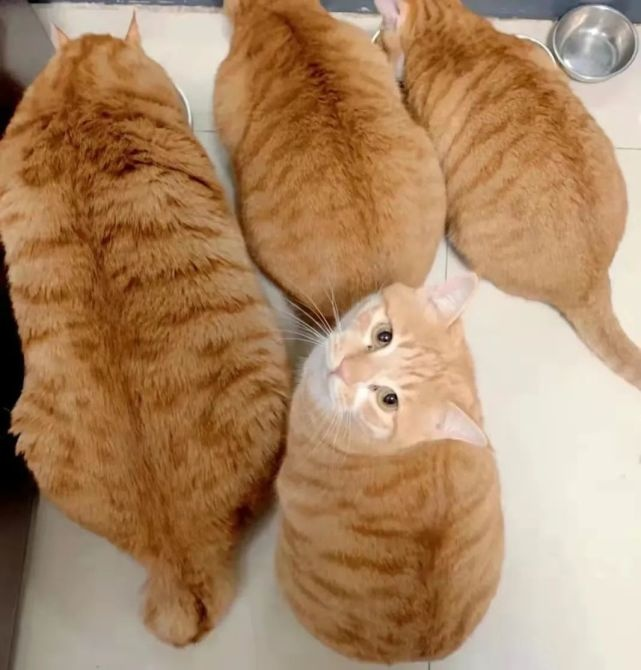cat: (1, 10, 289, 643), (371, 1, 641, 392), (273, 270, 507, 662), (212, 1, 452, 323)
